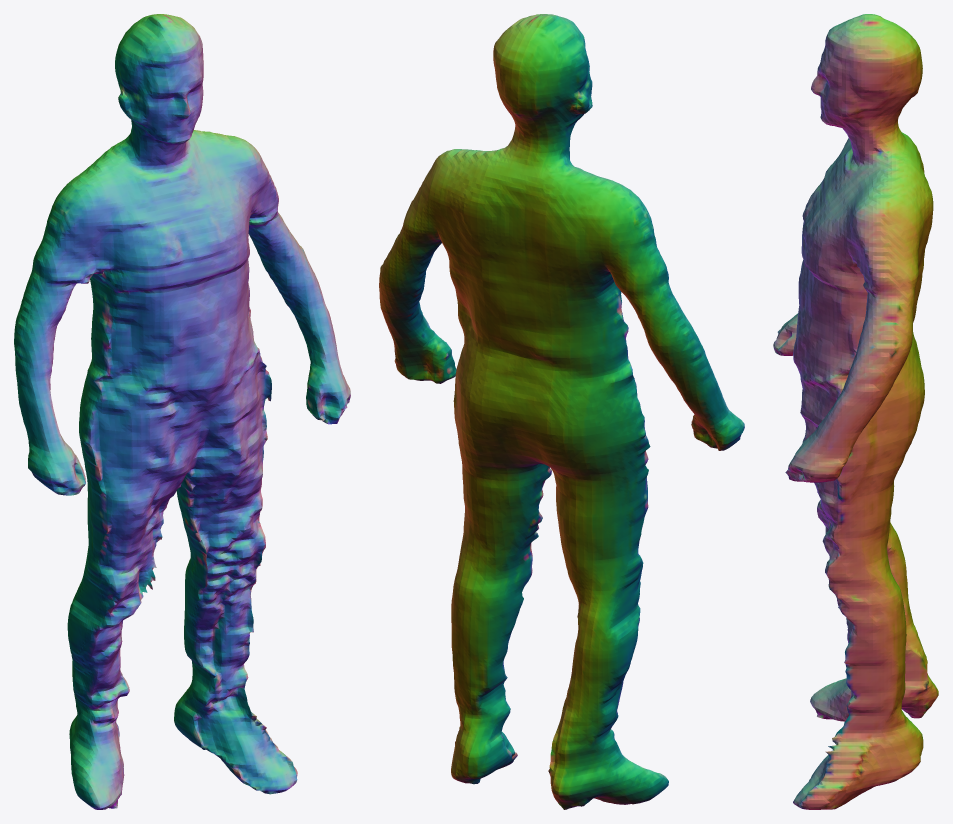
Rendered from result_test_512.obj.
The picture shows the model from 3 angles, left to right: view 1: azimuth 30°, elevation 25°; view 2: azimuth 150°, elevation 25°; view 3: azimuth 270°, elevation 25°; orthographic projection. The views are drawn at different scales.
Bounding box in the file's own units: 0.7273 × 1.68 × 0.3357.
